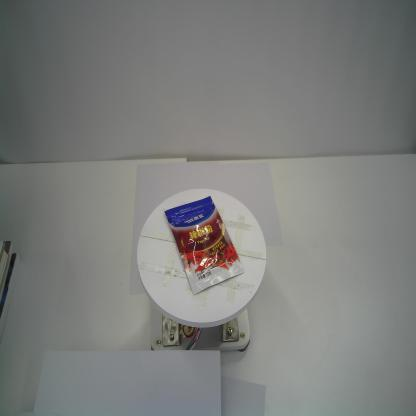Seasoner: (164, 194, 245, 295)
